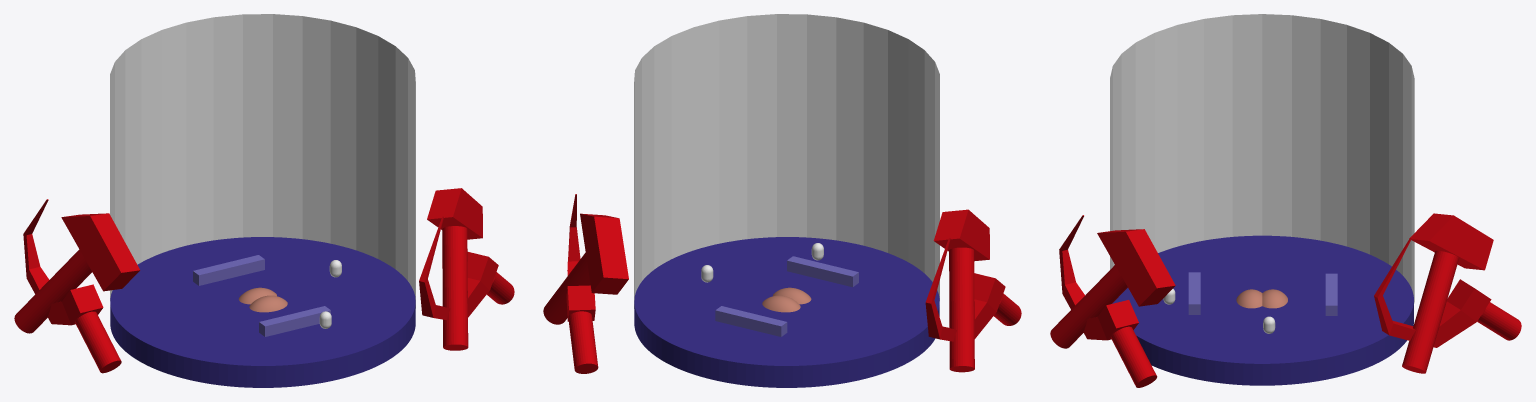
Rendered from lvl1.glb.
3 views of the same model, side by side, from view 1: azimuth 30°, elevation 25°; view 2: azimuth 150°, elevation 25°; view 3: azimuth 270°, elevation 25° (orthographic).
Visible parts, largest first — view 1: Border, Cylinder.001, USSR, Cube, Cube.001, Ass; view 2: Border, Cylinder.001, USSR, Cube, Cube.001, Ass; view 3: Border, Cylinder.001, USSR, Ass, Cube.001, Cube.
Boxes of the visible parts, left/top/right/bottom form: Border: left=110, top=14, right=415, bottom=308; Cylinder.001: left=110, top=237, right=415, bottom=387; USSR: left=14, top=188, right=514, bottom=373; Cube: left=193, top=255, right=264, bottom=285; Cube.001: left=259, top=306, right=330, bottom=336; Ass: left=238, top=287, right=287, bottom=312; Border: left=634, top=14, right=939, bottom=308; Cylinder.001: left=634, top=237, right=939, bottom=387; USSR: left=543, top=194, right=1021, bottom=373; Cube: left=715, top=306, right=787, bottom=336; Cube.001: left=787, top=256, right=858, bottom=287; Ass: left=762, top=287, right=811, bottom=312; Border: left=1110, top=14, right=1414, bottom=303; Cylinder.001: left=1112, top=235, right=1413, bottom=385; USSR: left=1050, top=213, right=1521, bottom=387; Ass: left=1236, top=289, right=1287, bottom=308; Cube.001: left=1188, top=272, right=1200, bottom=314; Cube: left=1325, top=273, right=1337, bottom=315.
Bounding box in the file's own units: 77.61 × 44.6 × 78.31.
